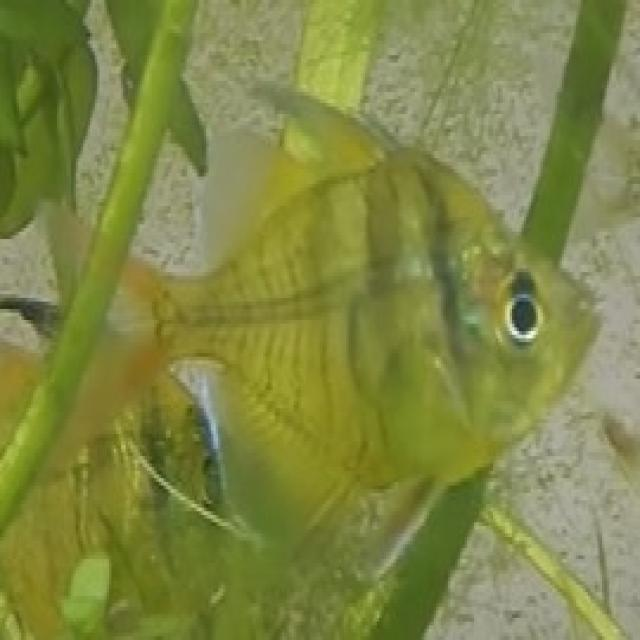Glass-Perchlet: (11, 47, 626, 538)
